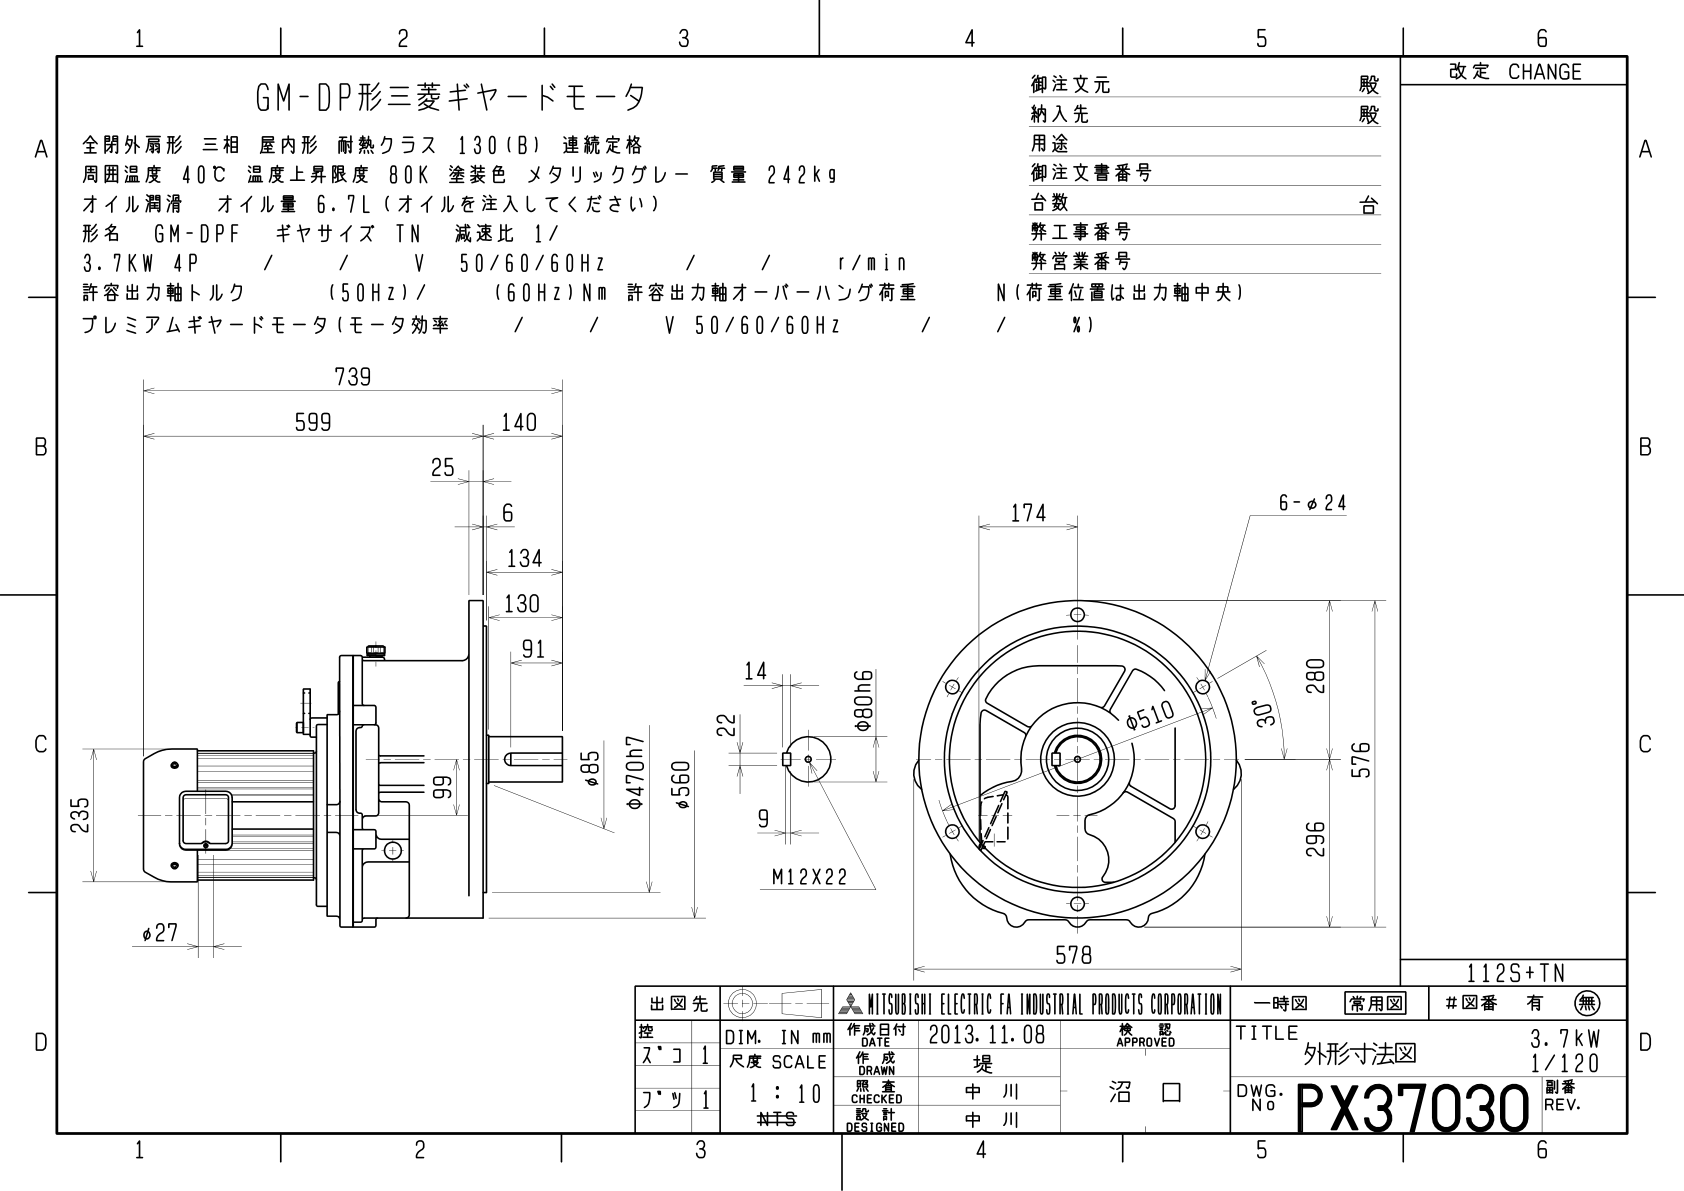GM_DP_屋内_三相_フランジ: (63, 357, 1383, 974)
